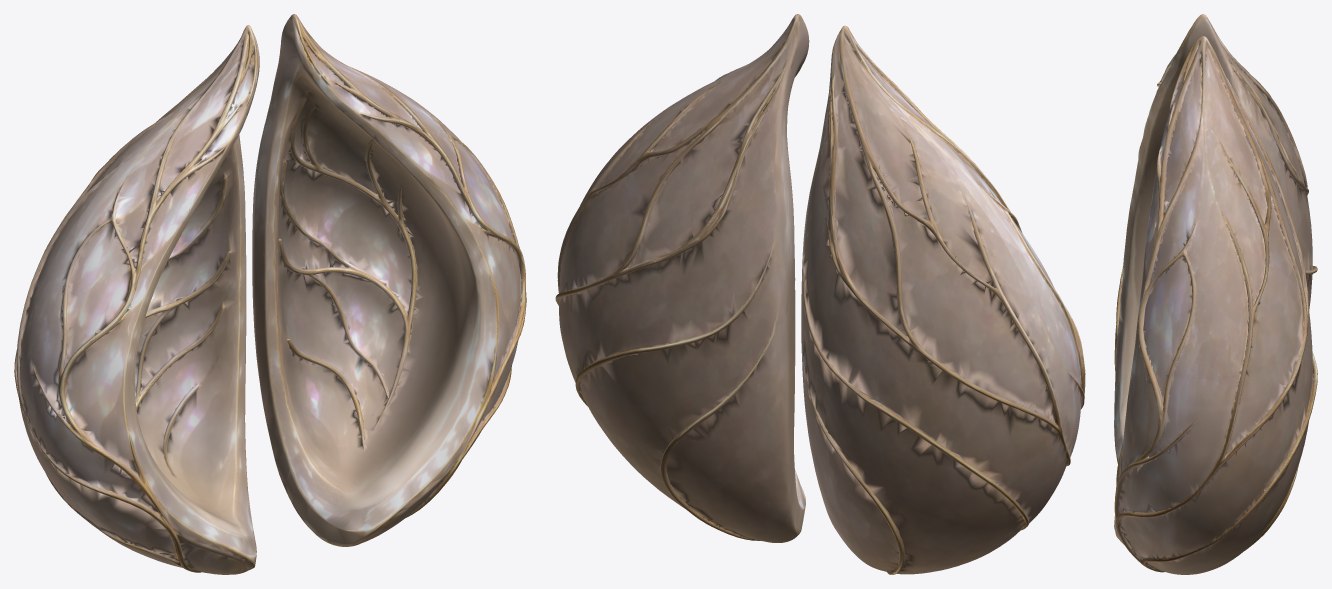
File: seed-shell.glb
The picture shows the model from 3 angles, left to right: view 1: azimuth 30°, elevation 25°; view 2: azimuth 150°, elevation 25°; view 3: azimuth 270°, elevation 25°; orthographic projection. The views are drawn at different scales.
Parts seen in each view (by area): view 1: tripo_node_f7199710-e693-43f9-a10e-f3d9108638c5; view 2: tripo_node_f7199710-e693-43f9-a10e-f3d9108638c5; view 3: tripo_node_f7199710-e693-43f9-a10e-f3d9108638c5.
Boxes of the visible parts, x1,y1,x2,y2 form: tripo_node_f7199710-e693-43f9-a10e-f3d9108638c5: (14,14,526,574); tripo_node_f7199710-e693-43f9-a10e-f3d9108638c5: (555,14,1085,574); tripo_node_f7199710-e693-43f9-a10e-f3d9108638c5: (1114,14,1317,574).
Size of the model in its own units: 0.9448 by 0.9797 by 0.3525.
Materials: 1 (1 with a texture image).
